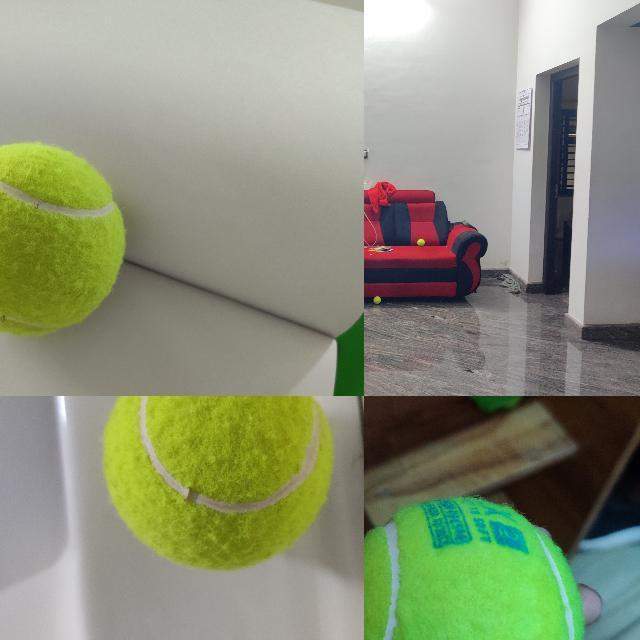tennis-ball: (97, 396, 336, 573), (364, 497, 581, 639), (0, 140, 128, 338), (417, 238, 425, 246), (373, 296, 381, 304)
